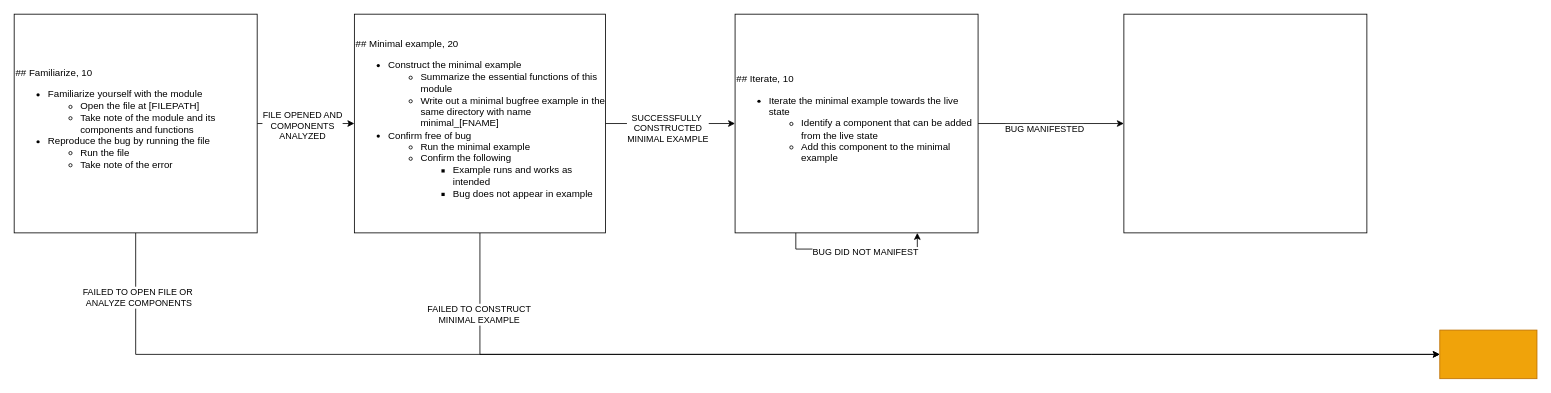
Image size: 1551x393. Some labels were removed from this diagram. The shapes that lost their labels are listed below. From the top down, each one's box as (x1, y1, x2, y2) in pixels, then its label:
(1123, 13, 1367, 233): ## Iterate
(1439, 329, 1537, 379): FAILURE
